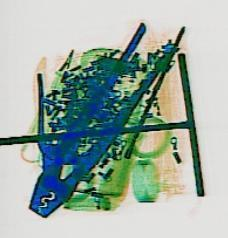Pliers: (13, 20, 180, 224)
